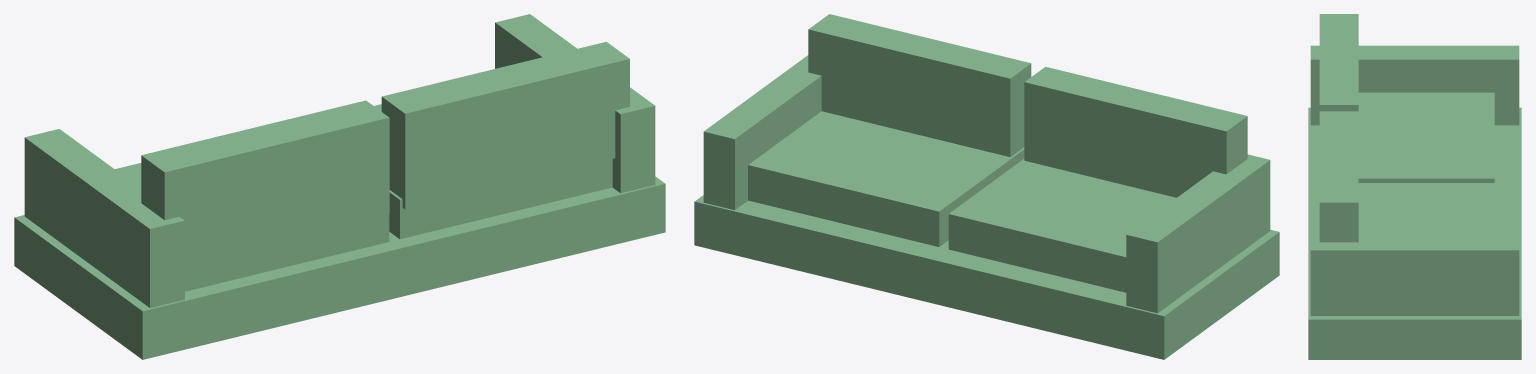
Rendered from office_lounge_seating_reference_board_01.glb.
The picture shows the model from 3 angles, left to right: view 1: azimuth 30°, elevation 25°; view 2: azimuth 150°, elevation 25°; view 3: azimuth 270°, elevation 25°; orthographic projection. The views are drawn at different scales.
Parts seen in each view (by area): view 1: Cube; view 2: Cube; view 3: Cube.
Boxes of the visible parts, x1,y1,x2,y2 form: Cube: [14, 14, 665, 359]; Cube: [694, 14, 1279, 359]; Cube: [1308, 14, 1521, 359].
Size of the model in its own units: 2.34 by 0.75 by 0.9935.
